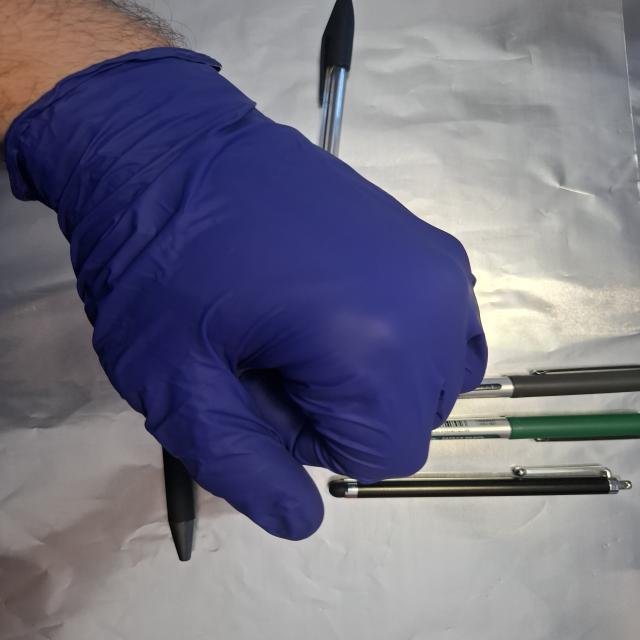glove_on: (14, 46, 493, 545)
